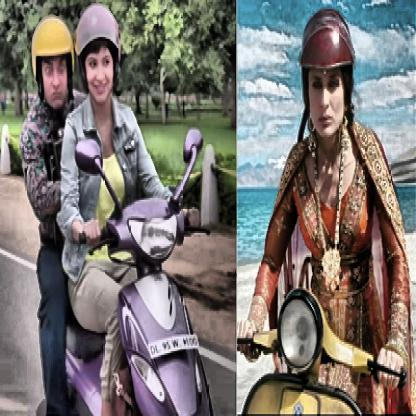wear: (305, 24, 353, 154), (77, 12, 115, 104), (34, 26, 70, 102)
